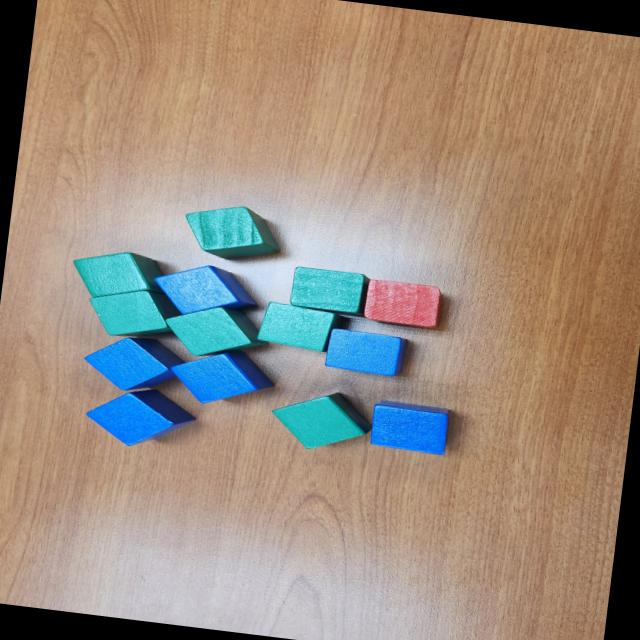blue: (80, 381, 200, 454), (168, 341, 278, 411), (148, 258, 262, 324), (80, 330, 190, 398), (368, 399, 452, 457), (321, 326, 410, 379)
green: (266, 384, 376, 457), (175, 198, 285, 265), (160, 300, 274, 364), (68, 245, 170, 305), (85, 282, 182, 344), (254, 299, 352, 355), (286, 264, 370, 317)
red: (360, 278, 445, 330)
